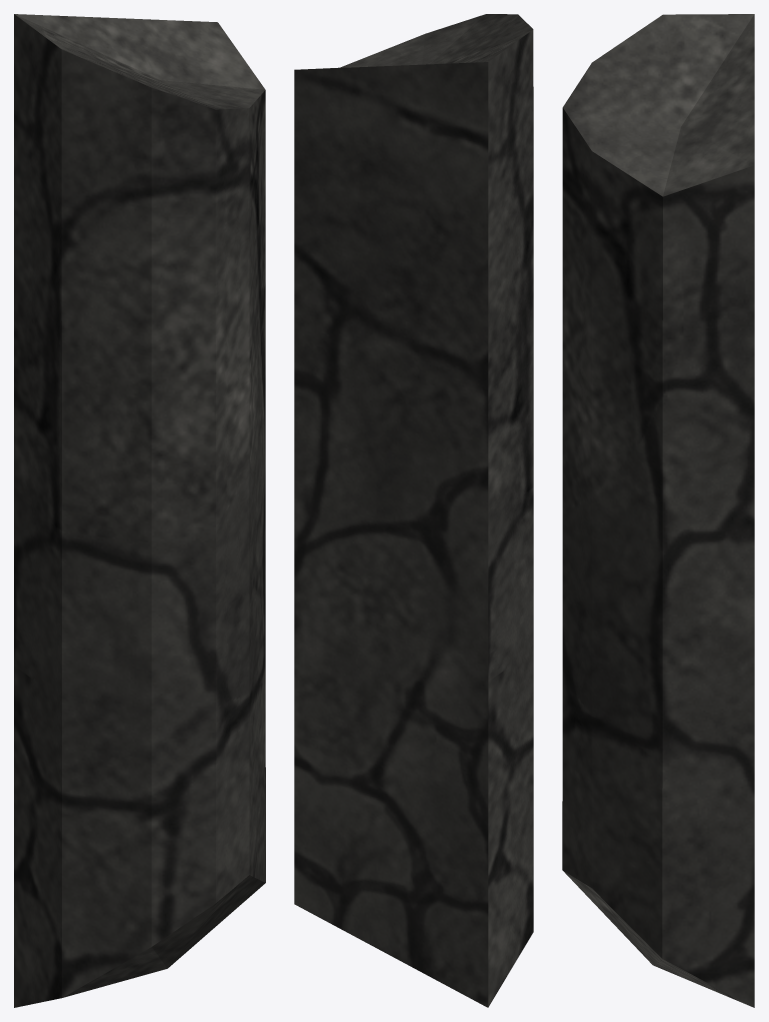
The model's file is stone_pillar_8.fbx.
3 views of the same model, side by side, from view 1: azimuth 30°, elevation 25°; view 2: azimuth 150°, elevation 25°; view 3: azimuth 270°, elevation 25° (orthographic). The views are drawn at different scales.
Parts seen in each view (by area): view 1: ruraltown_house_standard.004; view 2: ruraltown_house_standard.004; view 3: ruraltown_house_standard.004.
Part boxes in pixels (bbox=[...]): ruraltown_house_standard.004: bbox=[14, 14, 265, 1007]; ruraltown_house_standard.004: bbox=[294, 14, 533, 1007]; ruraltown_house_standard.004: bbox=[562, 14, 754, 1007].
Bounding box in the file's own units: 32.23 × 150 × 27.36.
